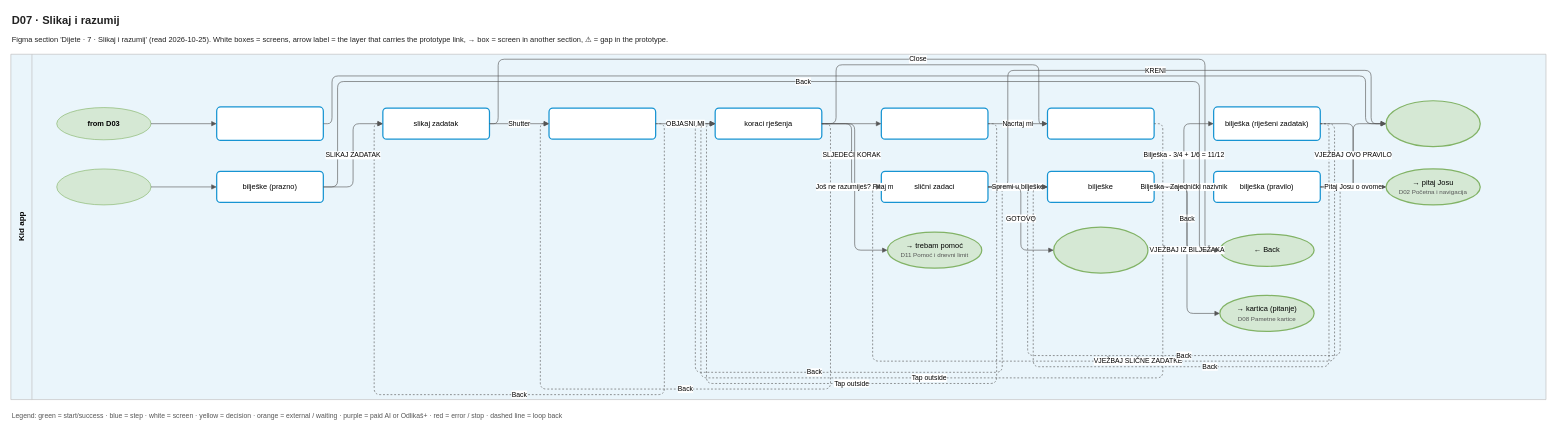
Image size: 1557x432. Some labels were removed from this diagram. Here are the shapes that lost their labels. From the top down, the centre of each, then its label:
the point at 270,123: slikanje blokirano u kvizu
the point at 602,123: označi zadatak
the point at 934,123: korak zašto
the point at 1100,123: korak nacrtaj
the point at 1433,123: → kviz D03 Zaključano → kviz → otključa
the point at 103,186: Empty state: no notes yet
the point at 1100,249: → Učenje pauzirano D06 Učenje (fokus i pauze)
